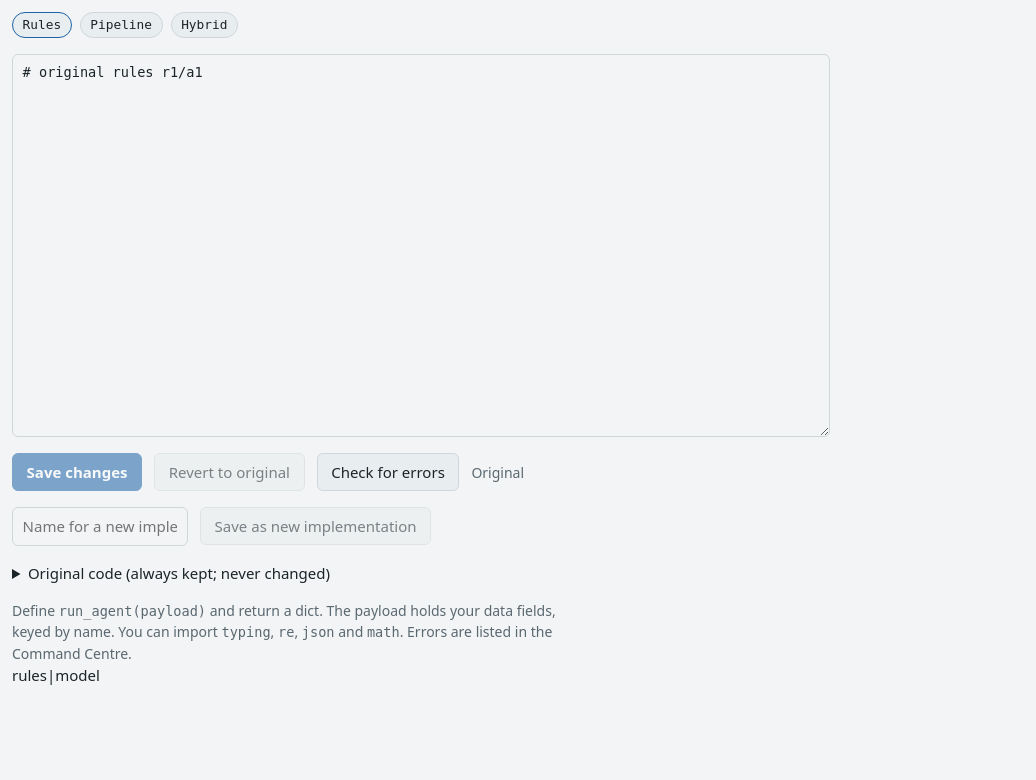
Scenario: CodePanel Check for errors › a save whose code fails the check reports the check, and the save still stands
Replace the text in the text box named "Python Source" with "BOOM" at coordinates (421, 246), box [12, 54, 830, 437]
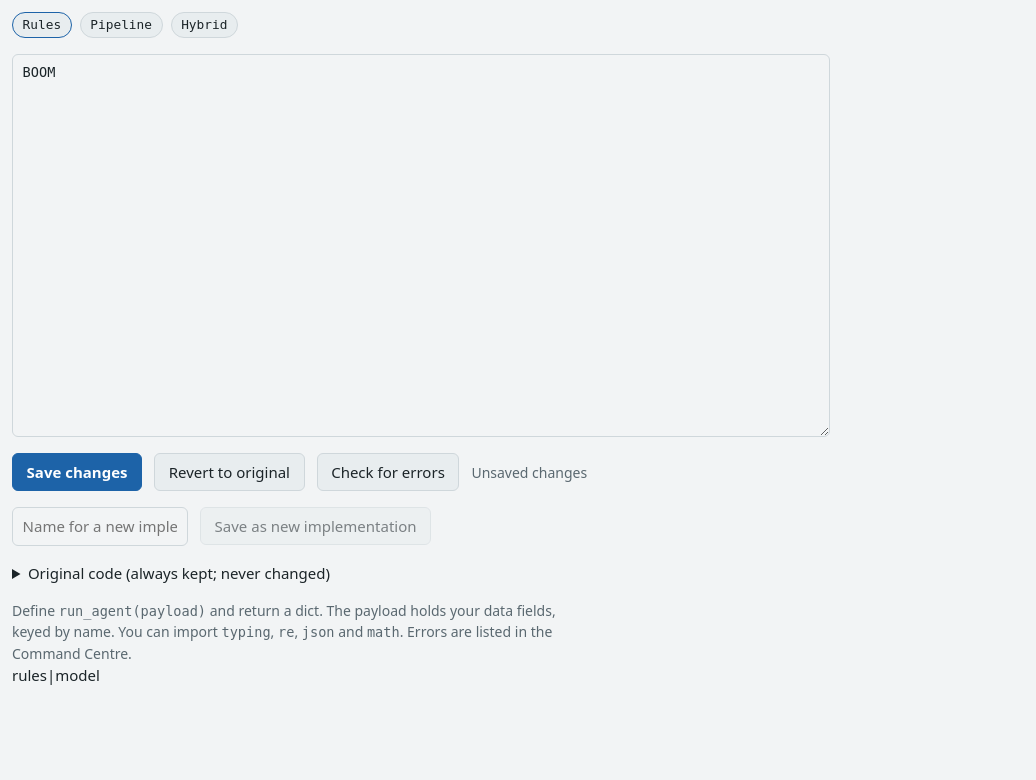
Click the button "Save changes" at coordinates (77, 472), box [12, 453, 142, 491]
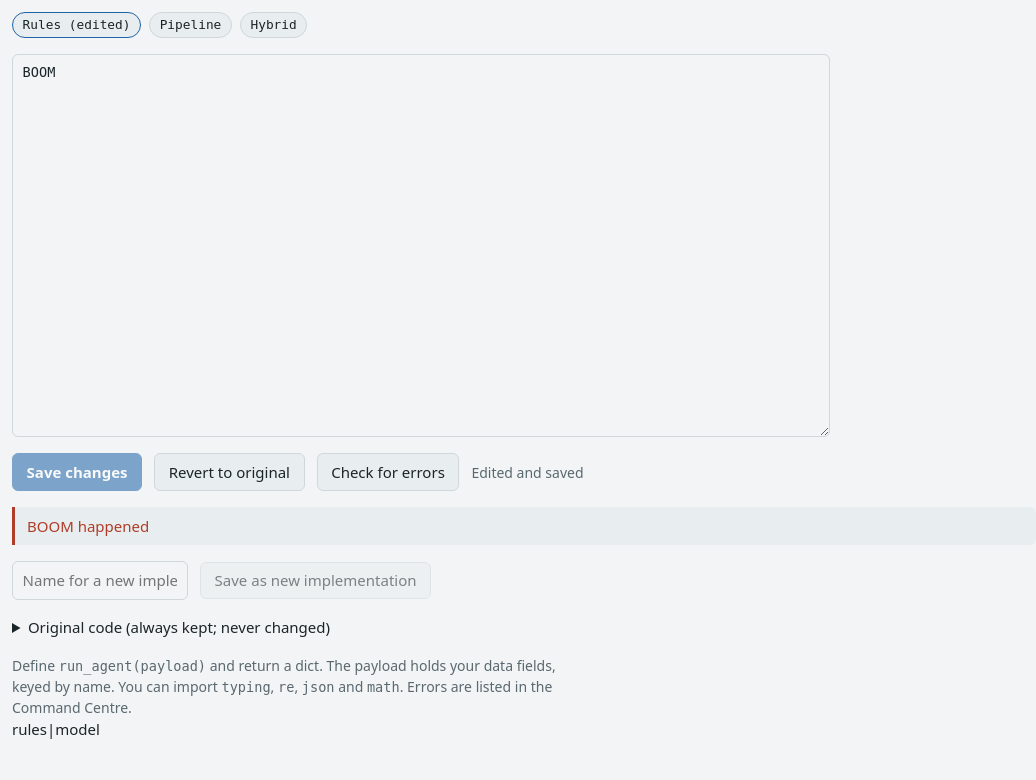
Expected: the text "BOOM happened" is shown, [12, 507, 1035, 545]
Expected: the message with class "hint" reads "Edited and saved", [471, 462, 584, 482]
